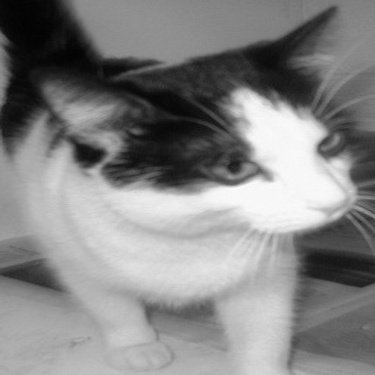cat: (6, 1, 364, 373)
